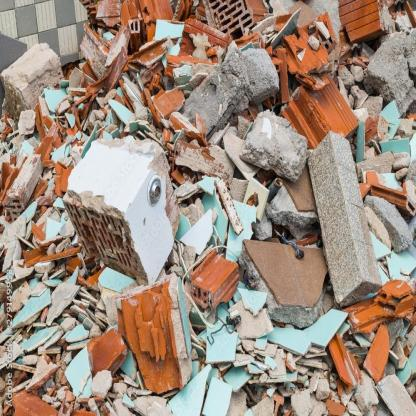brick: (1, 1, 416, 413)
